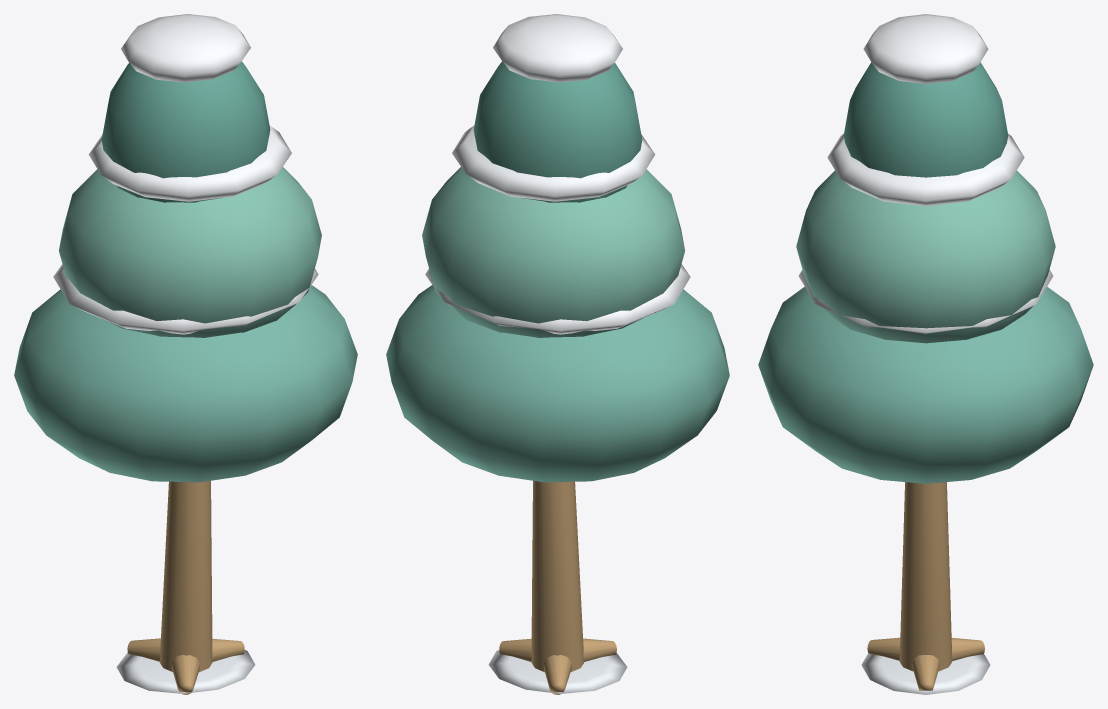
The model's file is tree_v3_winter.glb.
3 views of the same model, side by side, from view 1: azimuth 30°, elevation 25°; view 2: azimuth 150°, elevation 25°; view 3: azimuth 270°, elevation 25° (orthographic).
Size of the model in its own units: 2.75 by 5.59 by 2.65.
